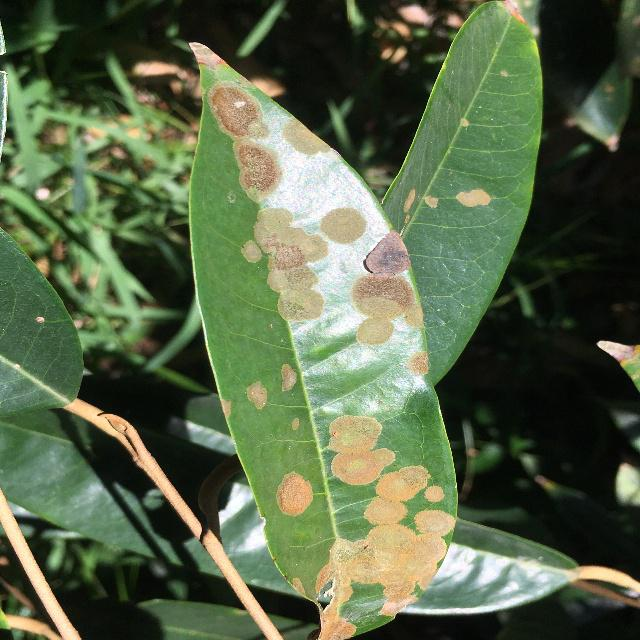Algal Leaf Spot: (181, 33, 468, 639)
